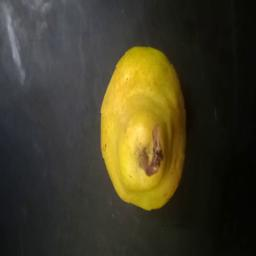Pear Fresh: (92, 45, 212, 228)
